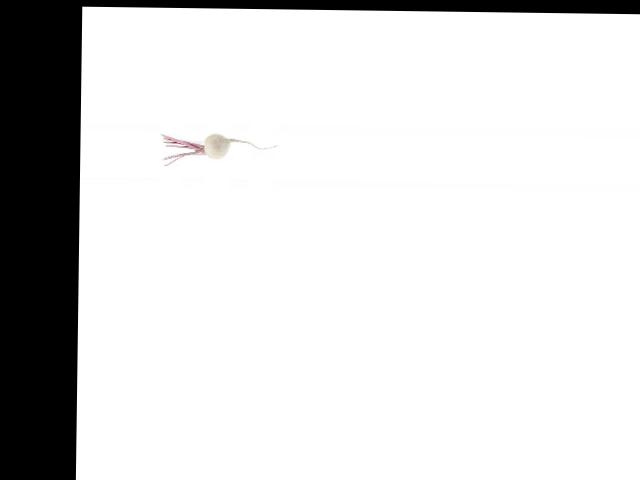beet: (161, 132, 279, 166)
